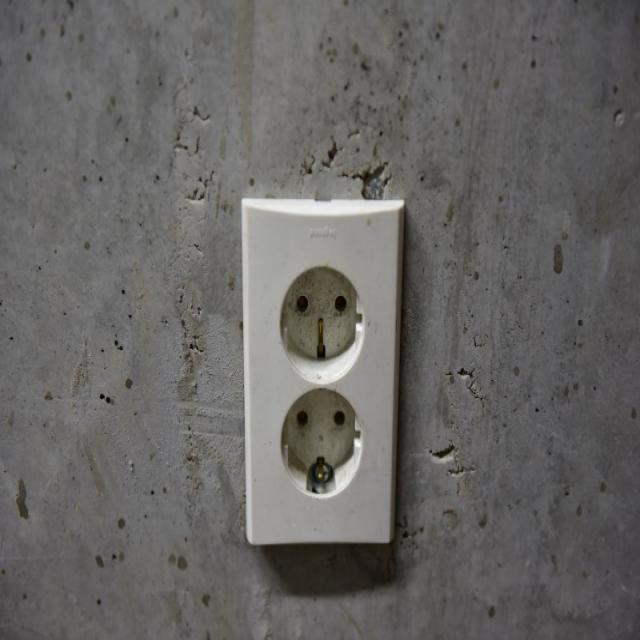typeb: (168, 165, 458, 639)
